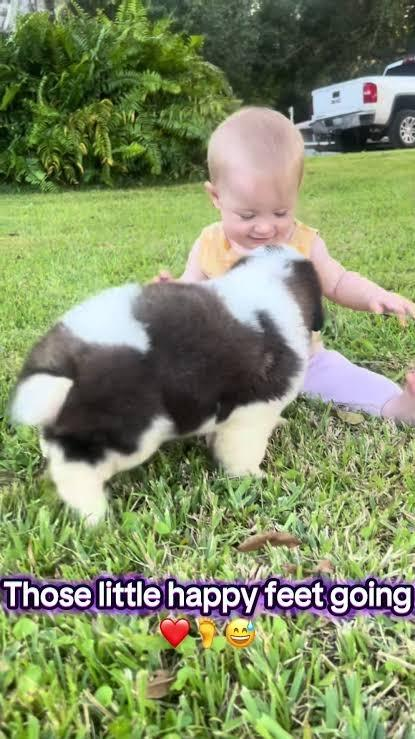non-dog: (148, 106, 415, 426)
puppy-dog: (7, 244, 325, 521)
